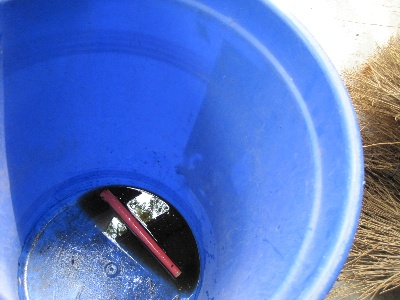bucket: (1, 1, 364, 300)
